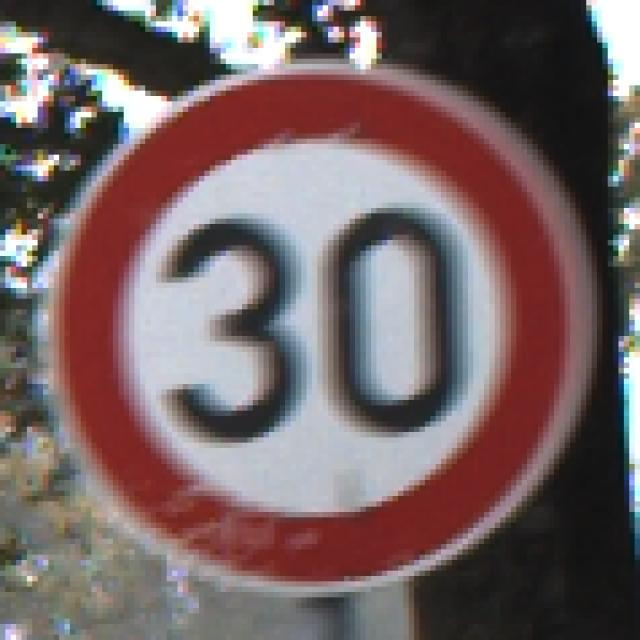Speed Limit -30-: (51, 56, 584, 584)
